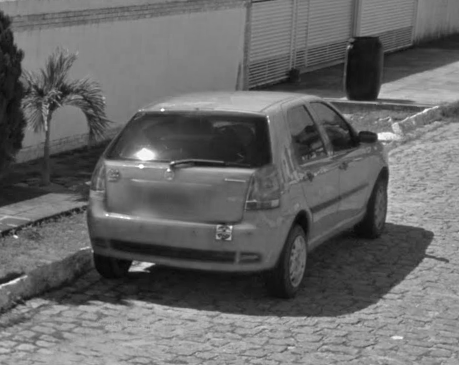car: (83, 86, 392, 304)
